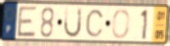1: (140, 9, 149, 41)
8: (39, 6, 55, 39)
C: (85, 9, 105, 39)
E: (16, 5, 39, 39)
O: (111, 8, 132, 40)
U: (62, 6, 83, 39)
